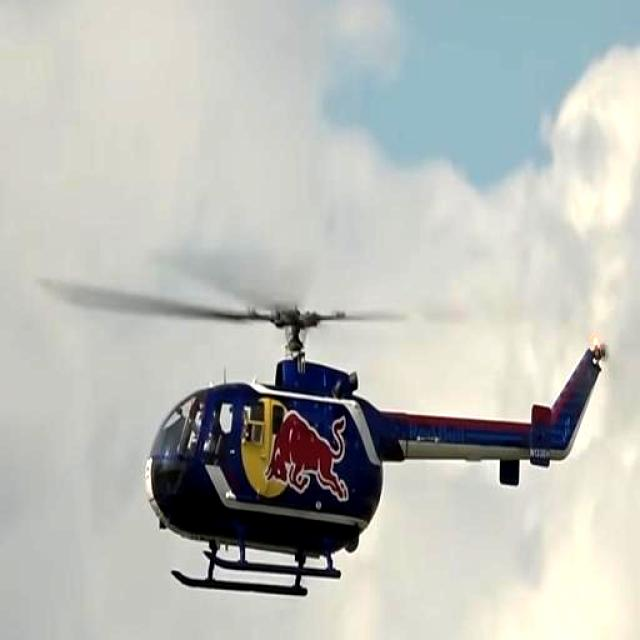drone: (142, 238, 620, 609)
